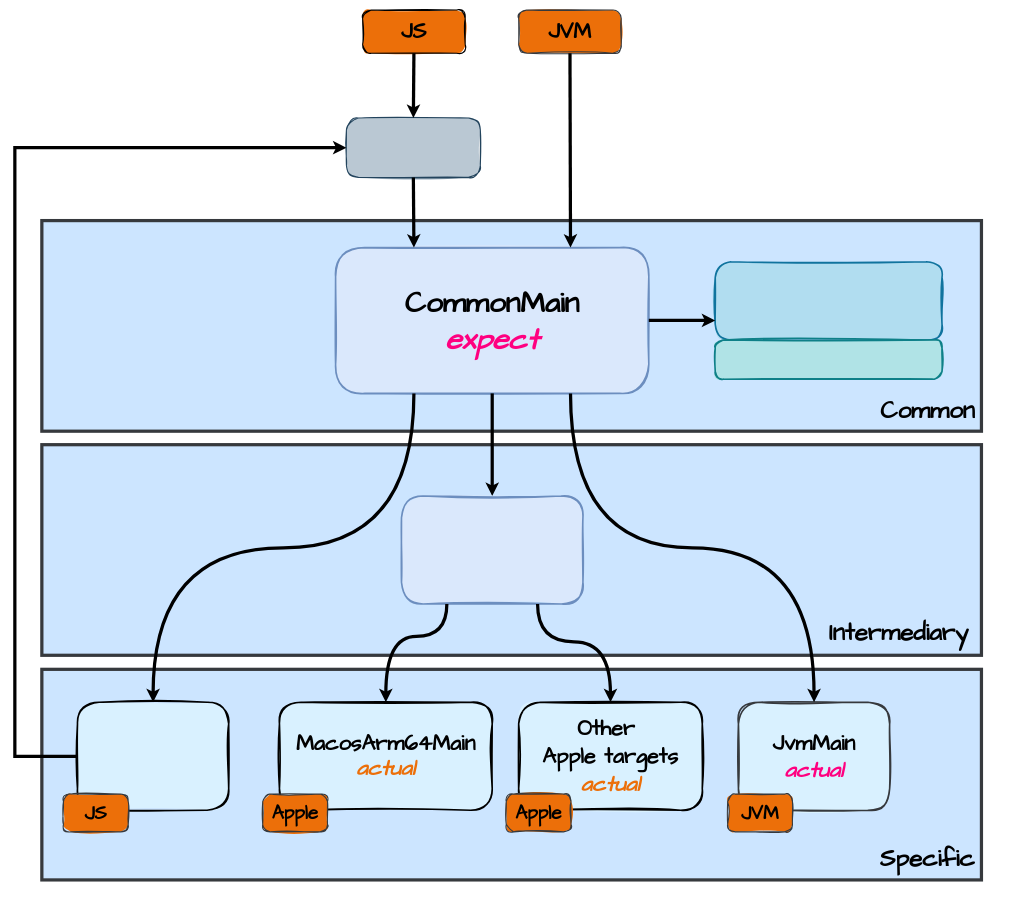
Image size: 1023x905. Some labels were removed from this diagram. Here are the shapes that lost their labels. From the top down, the centre of each, then its label:
At (413,147): "Adapter".
At (828,301): "Standard Kotlin Library".
At (828,359): "Kotlinx".
At (491,550): "AppleMain actual expect".
At (152,756): "JsMain actual".
